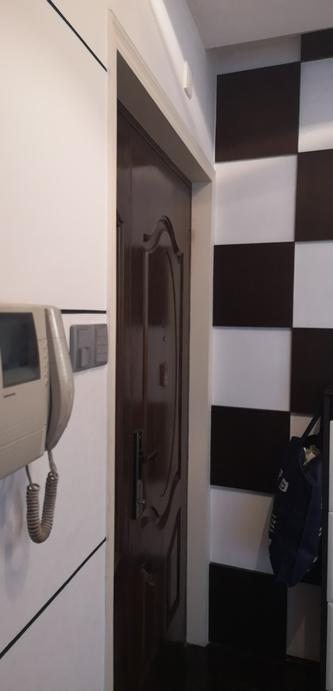switch: (77, 325, 96, 369), (103, 326, 115, 365)
